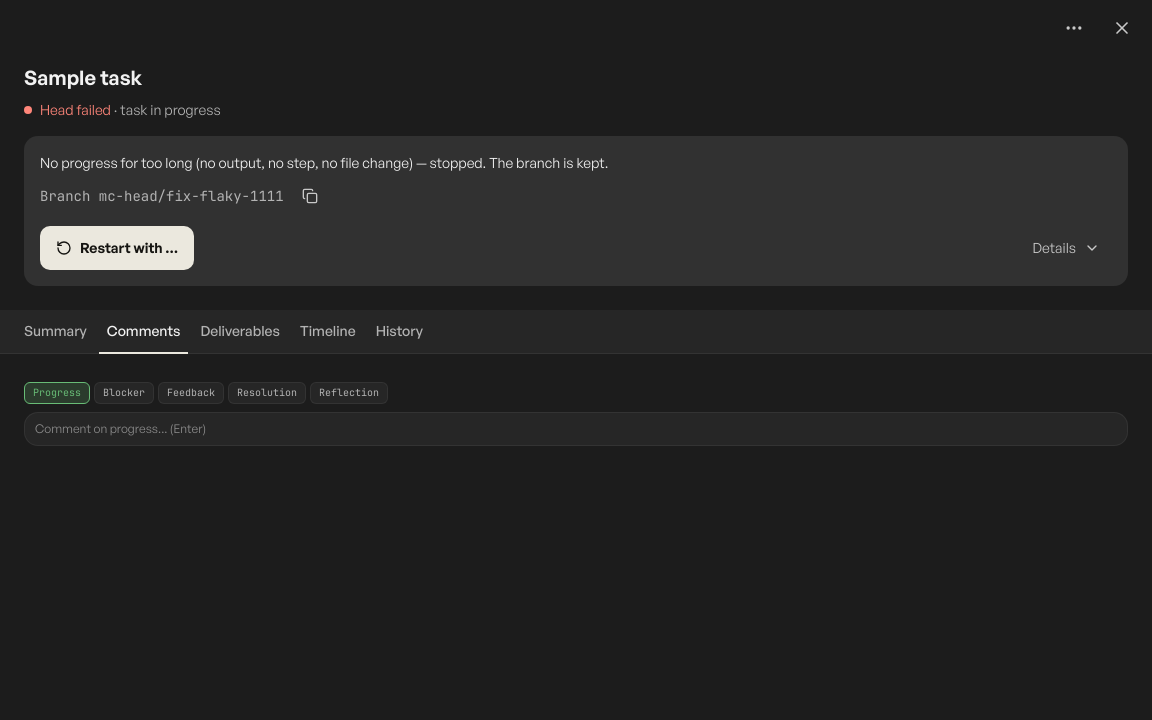
it: head-owned task (head launcher §8.2) › an ended head + a real assigned agent shows the AGENT's name, not a stale 'Head · …' (review fix round 5)
Click the tab "Summary" at [55, 332], box [16, 310, 95, 354]
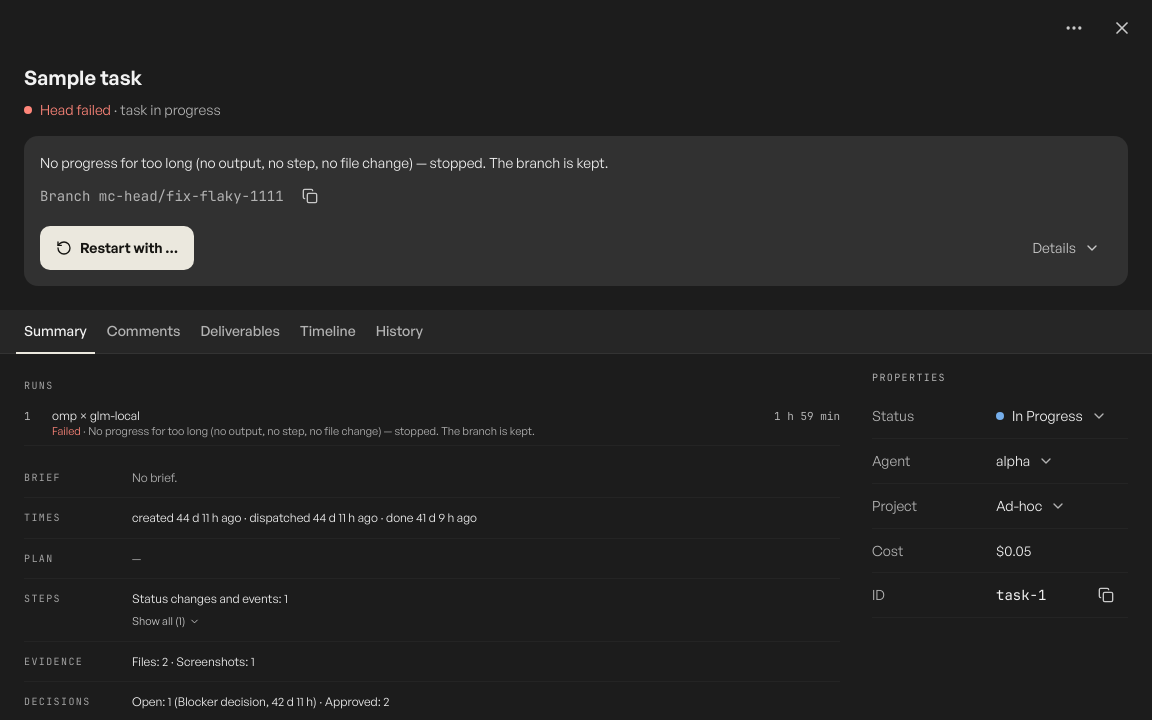
Expected: the element with test id "fact-agent" does not show "Head ·", [872, 439, 1128, 484]
Result: the element with test id "fact-agent" shows "alpha" at [988, 439, 1062, 483]
